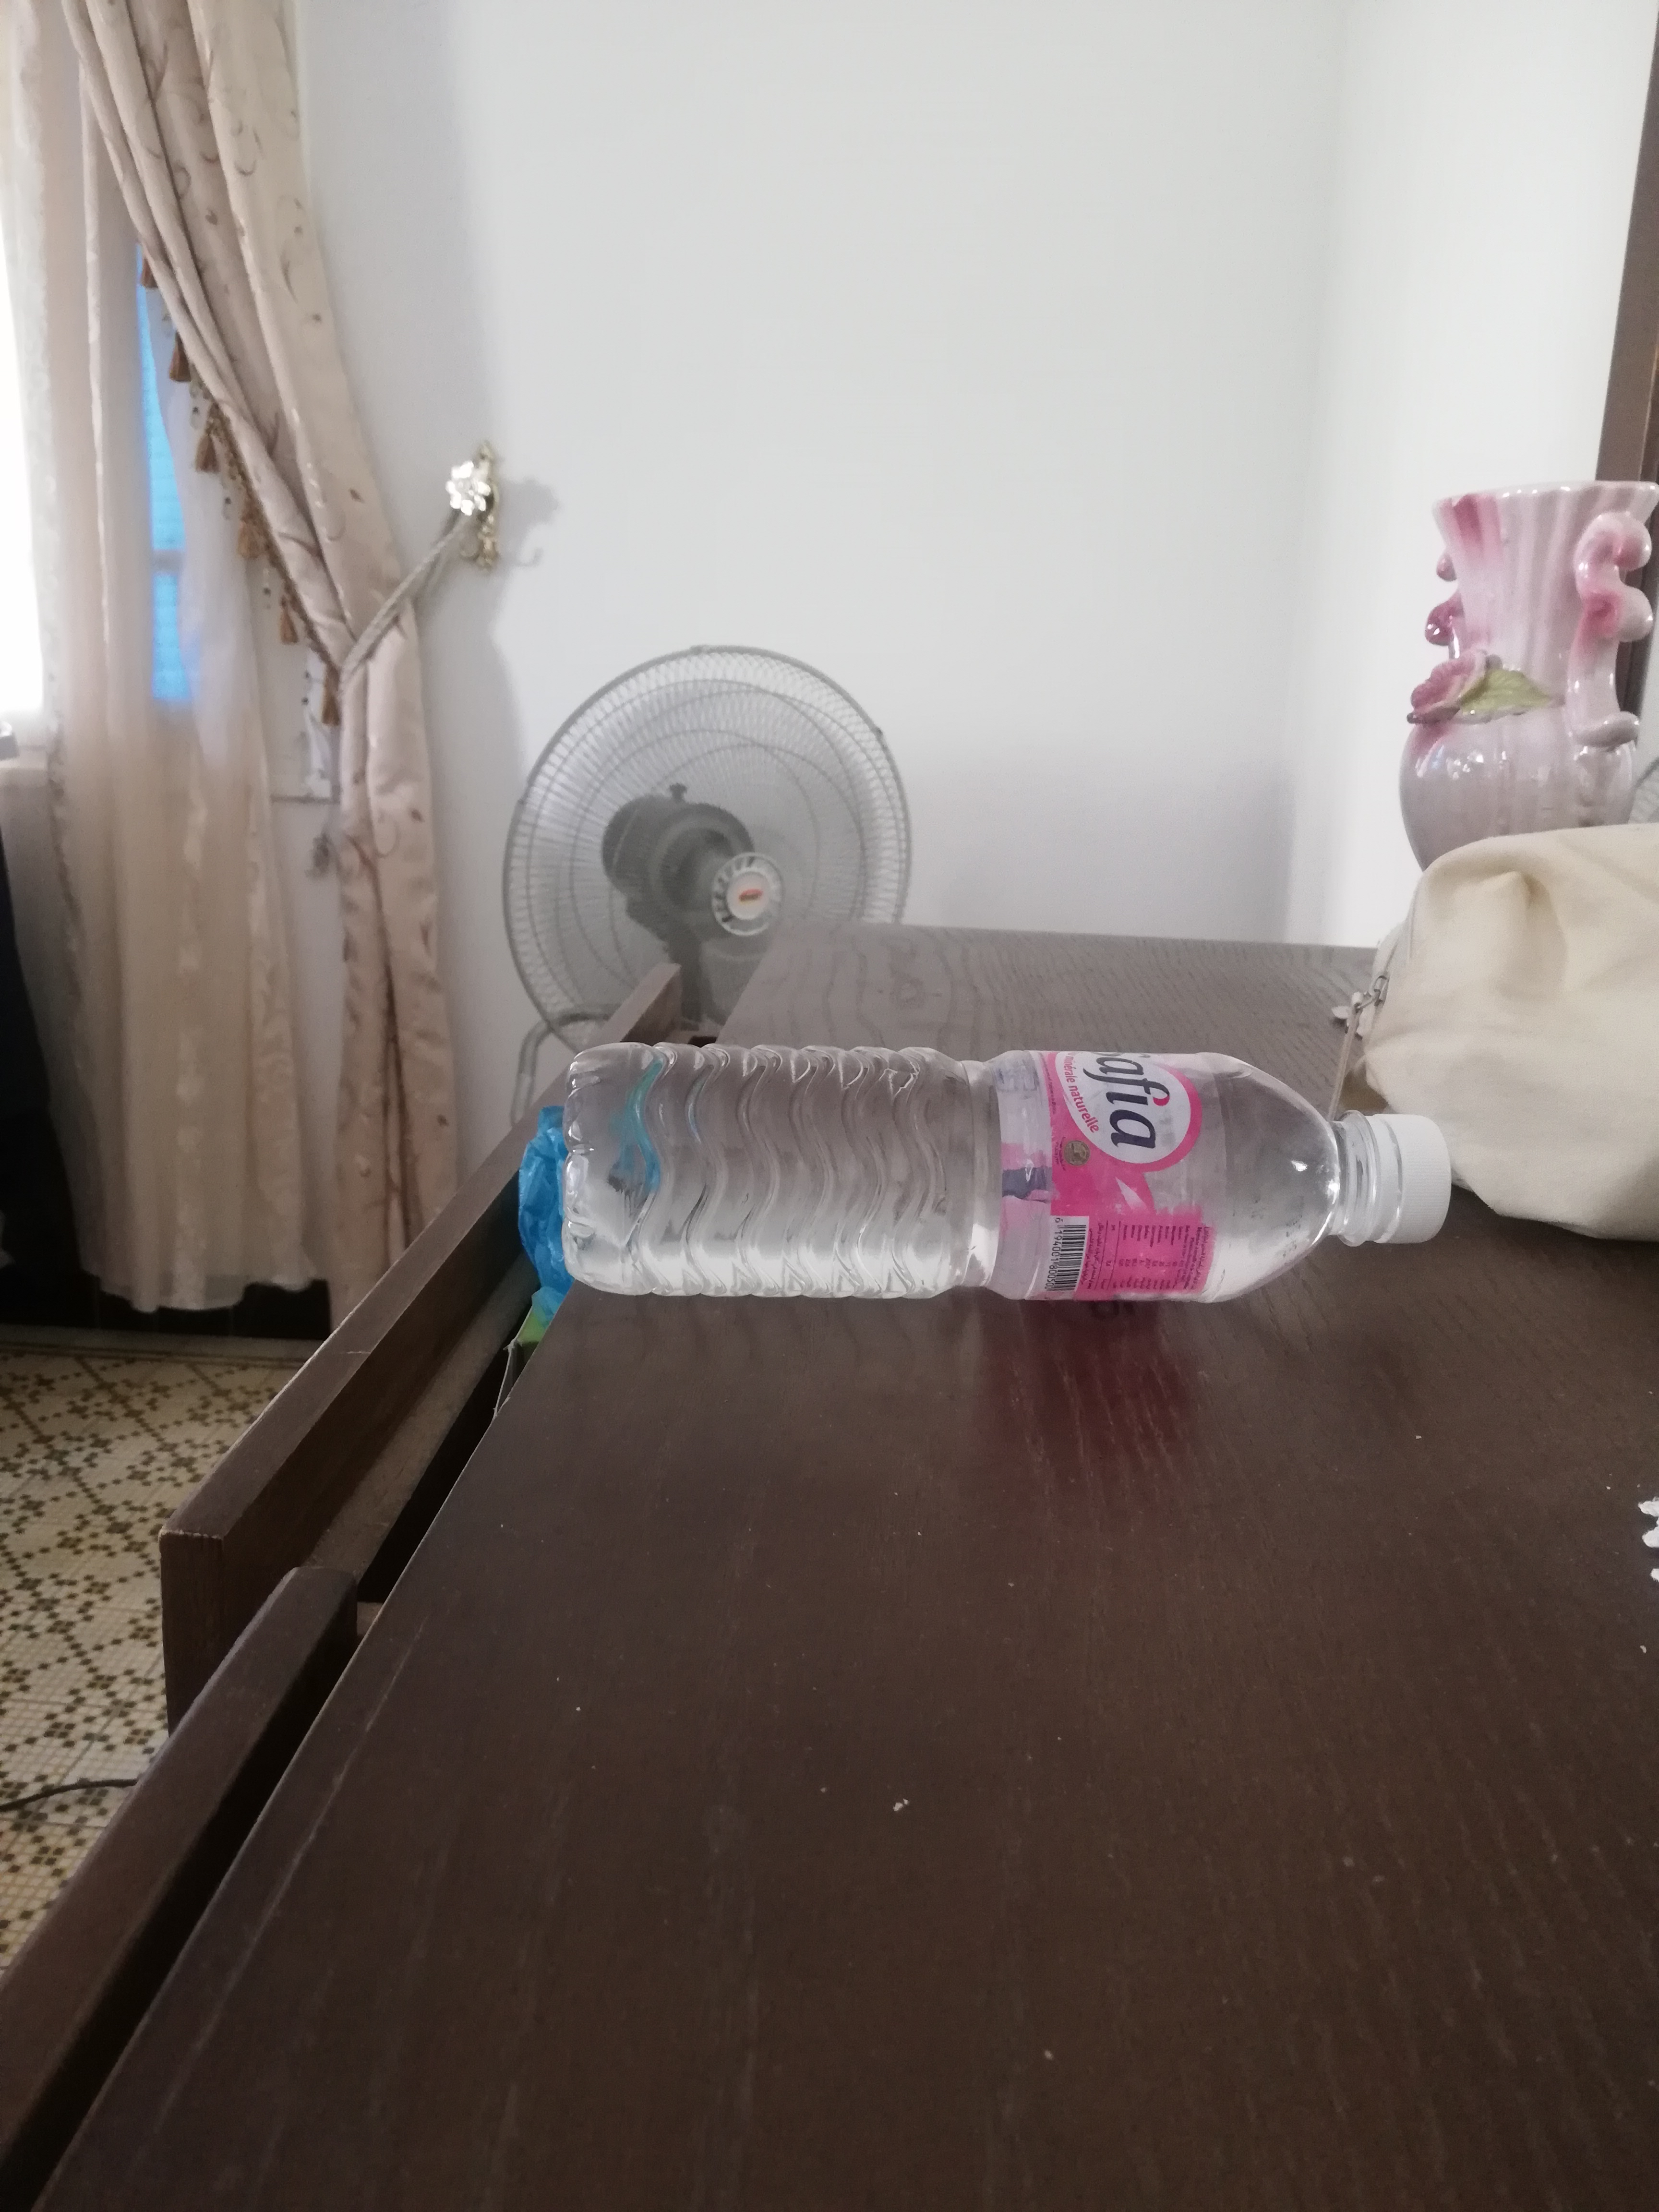Eau safia: (558, 1036, 1471, 1315)
